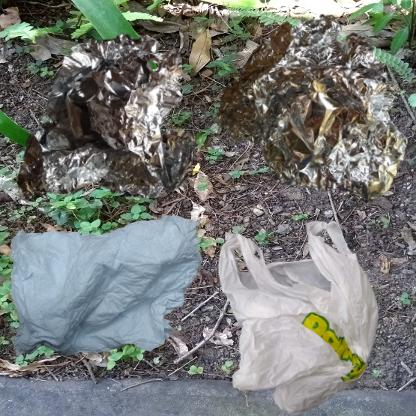aluminio: (10, 10, 237, 256), (213, 10, 412, 204)
bolsa: (213, 213, 395, 416)
papel: (10, 213, 203, 357)
